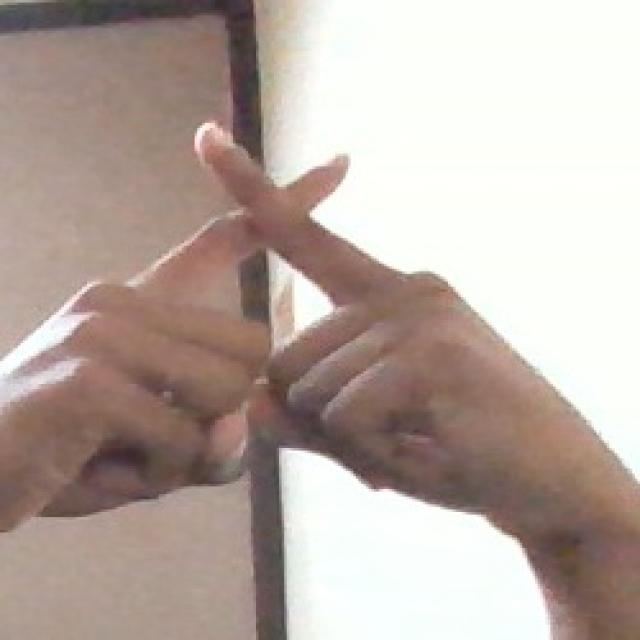Alphabet-X: (39, 117, 573, 540)
